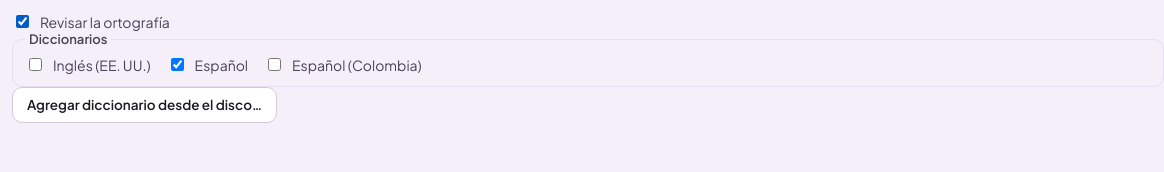
Test: SpellingSettings › says so when no dictionary is selected
Click the checkbox labelled "Español" at (177, 64), box [171,58,184,71]
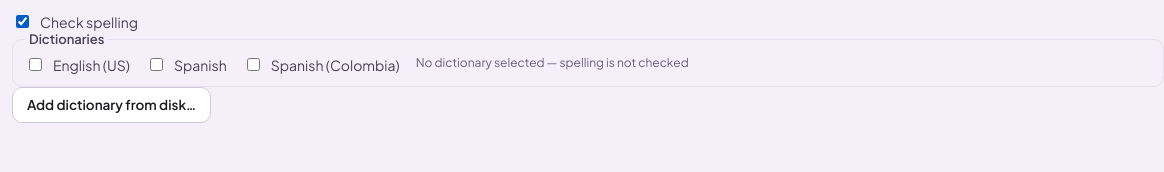
expect the text "Ningún diccionario seleccionado: no se revisa la ortografía" is shown: met, box [416,55,689,74]
